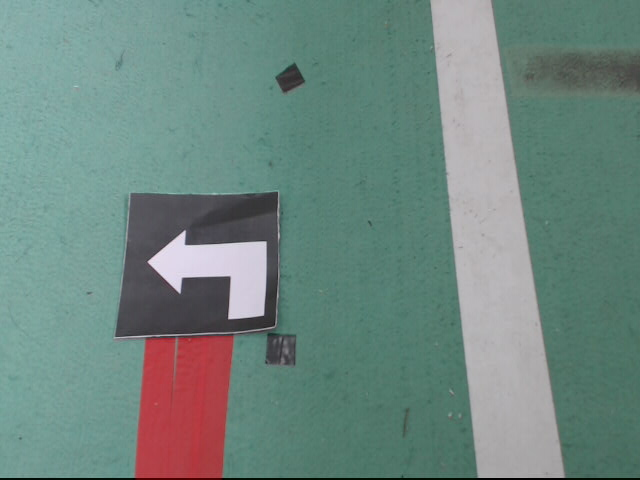left: (117, 192, 281, 335)
